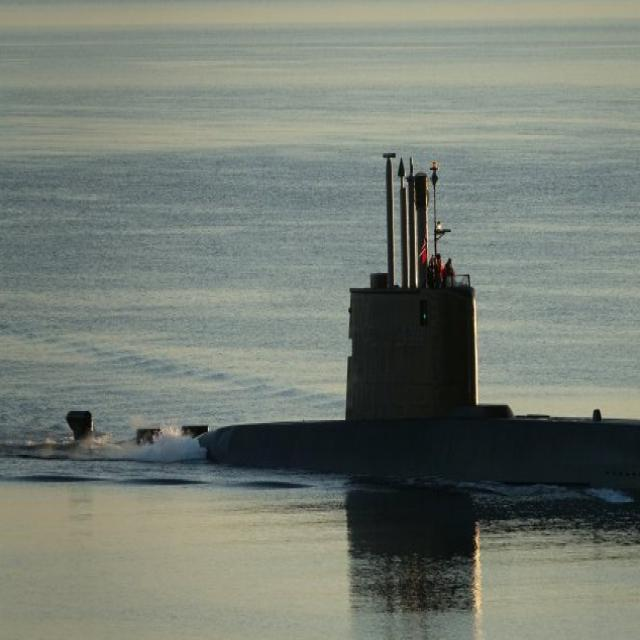submarine: (63, 152, 640, 481)
